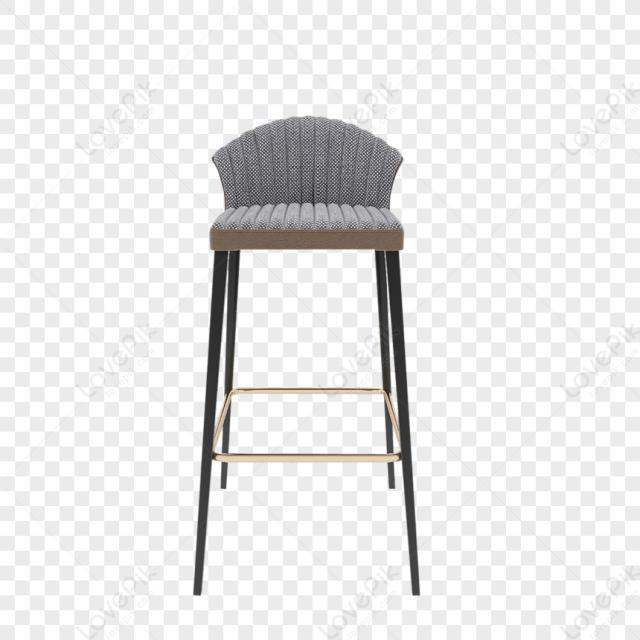chair: (190, 110, 420, 597)
